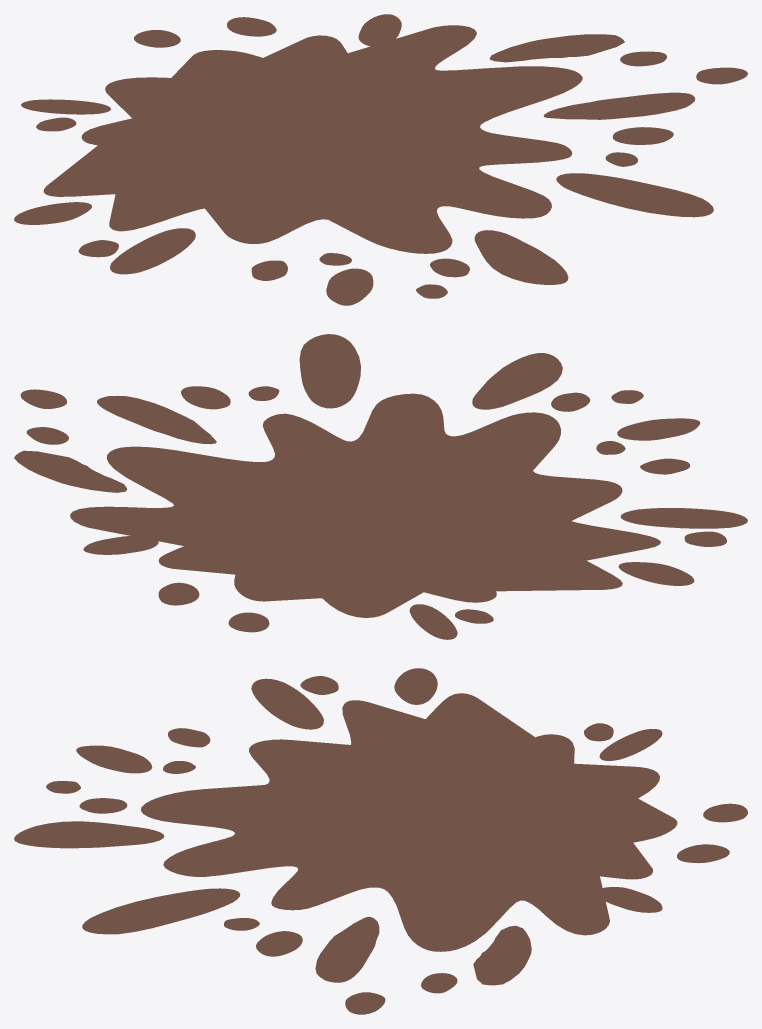
File: Muds.fbx
3 views of the same model, one above another, from view 1: azimuth 30°, elevation 25°; view 2: azimuth 150°, elevation 25°; view 3: azimuth 270°, elevation 25° (orthographic).
Parts seen in each view (by area): view 1: MudPuddle, MudPice.010, MudPice.014, MudPice.009, MudPice.003, MudPice.011, MudPice.015, MudPice.004, MudPice.001, MudPice.007, MudPice.016, MudPice.006 (+6 smaller); view 2: MudPuddle, MudPice.010, MudPice.014, MudPice.009, MudPice.003, MudPice.011, MudPice.015, MudPice.004, MudPice.007, MudPice.001, MudPice.016, MudPice.006 (+6 smaller); view 3: MudPuddle, MudPice.010, MudPice.014, MudPice.009, MudPice.003, MudPice.011, MudPice.015, MudPice.004, MudPice.007, MudPice.001, MudPice.016, MudPice.006 (+5 smaller).
Boxes of the visible parts, x1,y1,x2,y2 form: MudPuddle: [43, 25, 582, 253]; MudPice.010: [556, 173, 713, 217]; MudPice.014: [474, 230, 568, 284]; MudPice.009: [543, 92, 695, 119]; MudPice.003: [489, 34, 624, 62]; MudPice.011: [110, 228, 195, 274]; MudPice.015: [326, 268, 373, 305]; MudPice.004: [14, 202, 91, 224]; MudPice.001: [21, 99, 110, 114]; MudPice.007: [358, 14, 401, 46]; MudPice.016: [612, 127, 673, 144]; MudPice.006: [227, 17, 276, 36]; MudPuddle: [70, 393, 660, 617]; MudPice.010: [299, 334, 360, 408]; MudPice.014: [472, 353, 562, 409]; MudPice.009: [97, 395, 216, 444]; MudPice.003: [14, 450, 126, 492]; MudPice.011: [620, 508, 747, 528]; MudPice.015: [617, 418, 700, 440]; MudPice.004: [618, 562, 694, 585]; MudPice.007: [83, 535, 158, 554]; MudPice.001: [409, 604, 457, 639]; MudPice.016: [181, 386, 230, 409]; MudPice.006: [158, 582, 199, 605]; MudPuddle: [141, 693, 677, 951]; MudPice.010: [82, 888, 240, 934]; MudPice.014: [14, 821, 164, 848]; MudPice.009: [315, 916, 379, 982]; MudPice.003: [473, 925, 531, 985]; MudPice.011: [251, 678, 323, 729]; MudPice.015: [76, 745, 152, 773]; MudPice.004: [394, 668, 437, 704]; MudPice.007: [597, 887, 662, 912]; MudPice.001: [599, 729, 662, 760]; MudPice.016: [256, 931, 302, 956]; MudPice.006: [677, 844, 729, 863].
Bounding box in the file's own units: 502 × 0.0014 × 449.
